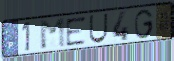1: (20, 20, 31, 53)
4: (111, 9, 131, 42)
E: (64, 15, 87, 48)
G: (134, 8, 155, 40)
M: (38, 16, 67, 52)
U: (88, 12, 110, 45)
